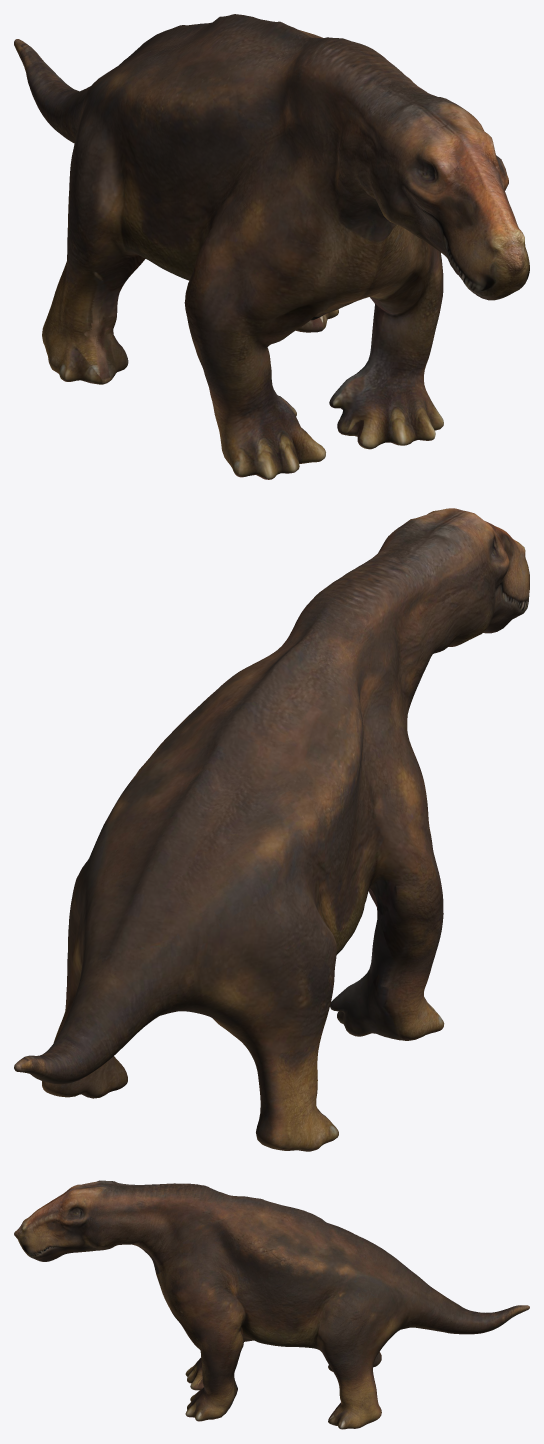
The model's file is 01 Andescynodon 3D.glb.
The picture shows the model from 3 angles, top to bottom: view 1: azimuth 30°, elevation 25°; view 2: azimuth 150°, elevation 25°; view 3: azimuth 270°, elevation 25°; orthographic projection. The views are drawn at different scales.
Parts seen in each view (by area): view 1: Mesh_0; view 2: Mesh_0; view 3: Mesh_0.
Boxes of the visible parts, left/top/right/bottom form: Mesh_0: left=14, top=14, right=529, bottom=479; Mesh_0: left=14, top=508, right=529, bottom=1151; Mesh_0: left=14, top=1180, right=529, bottom=1429.
Size of the model in its own units: 3.72 by 5.34 by 11.73.
Materials: 1 (1 with a texture image).
